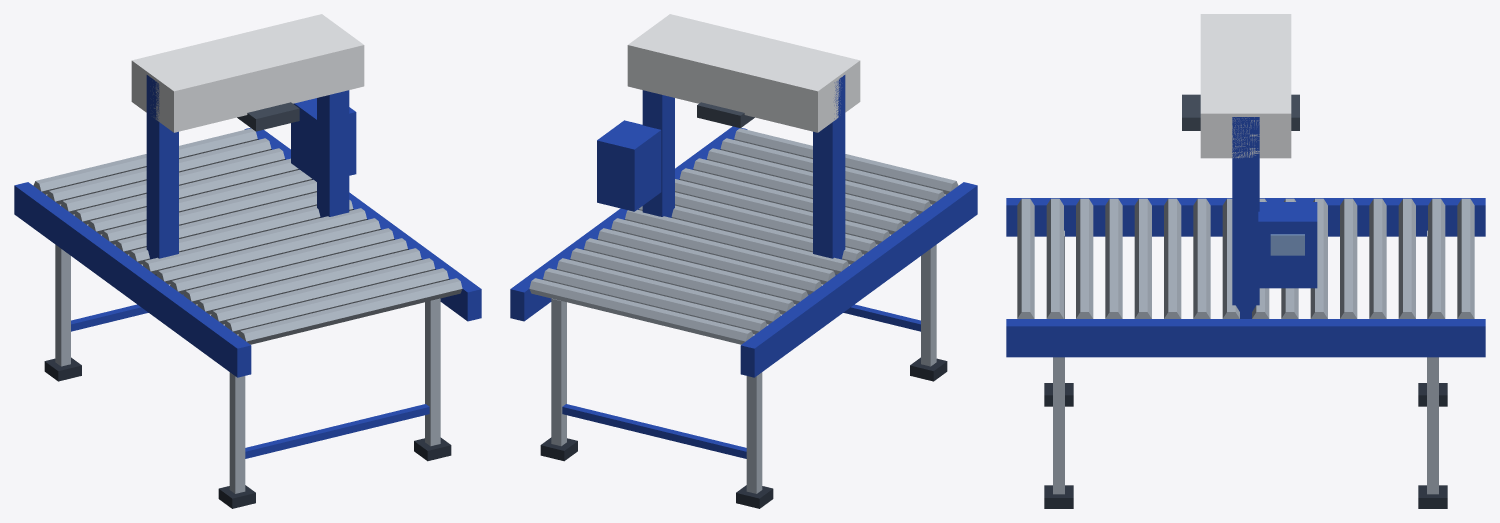
File: SM_MPR_CartonSealer.fbx
3 renders of one model, left to right at view 1: azimuth 30°, elevation 25°; view 2: azimuth 150°, elevation 25°; view 3: azimuth 270°, elevation 25°, orthographic. The views are drawn at different scales.
Parts seen in each view (by area): view 1: SM_MPR_CartonSealer; view 2: SM_MPR_CartonSealer; view 3: SM_MPR_CartonSealer.
Boxes of the visible parts, <box> form: SM_MPR_CartonSealer: <box>14,14,481,508</box>; SM_MPR_CartonSealer: <box>510,14,977,508</box>; SM_MPR_CartonSealer: <box>1006,14,1485,508</box>.
Size of the model in its own units: 123 by 195 by 174.
